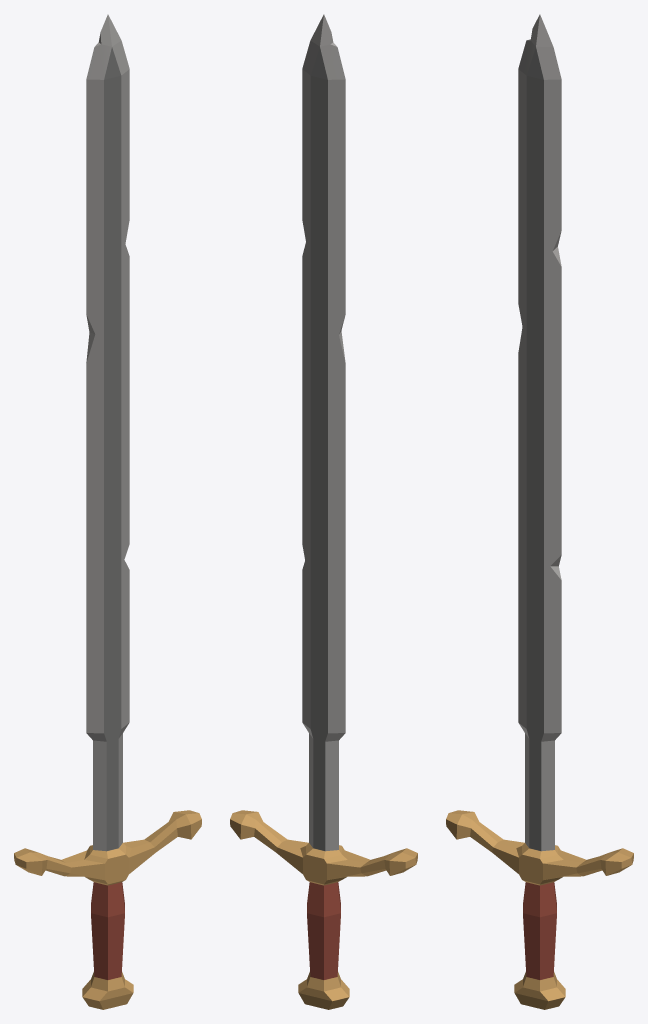
Rendered from SM_Wep_Greatsword_Straight_01.FBX.
3 views of the same model, side by side, from view 1: azimuth 30°, elevation 25°; view 2: azimuth 150°, elevation 25°; view 3: azimuth 330°, elevation 25° (orthographic).
Parts seen in each view (by area): view 1: SM_Wep_Greatsword_Straight_01; view 2: SM_Wep_Greatsword_Straight_01; view 3: SM_Wep_Greatsword_Straight_01.
Boxes of the visible parts, x1=… form: SM_Wep_Greatsword_Straight_01: x1=14, y1=14, x2=201, y2=1009; SM_Wep_Greatsword_Straight_01: x1=230, y1=14, x2=417, y2=1009; SM_Wep_Greatsword_Straight_01: x1=446, y1=14, x2=633, y2=1009.
Bounding box in the file's own units: 30.73 × 5.19 × 158.
